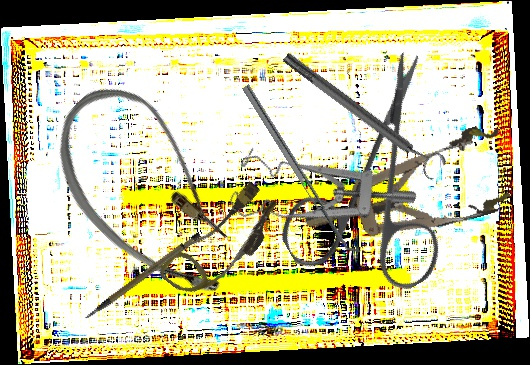Cannula: (24, 66, 279, 318), (156, 171, 288, 313)
Fixation Ring: (277, 43, 449, 184)
Iris Scissors: (231, 47, 517, 332)
Scalpel Handle: (72, 230, 211, 321)
Spatula Surgical: (241, 80, 363, 259)
Speculum: (219, 115, 419, 283), (292, 120, 521, 264)
